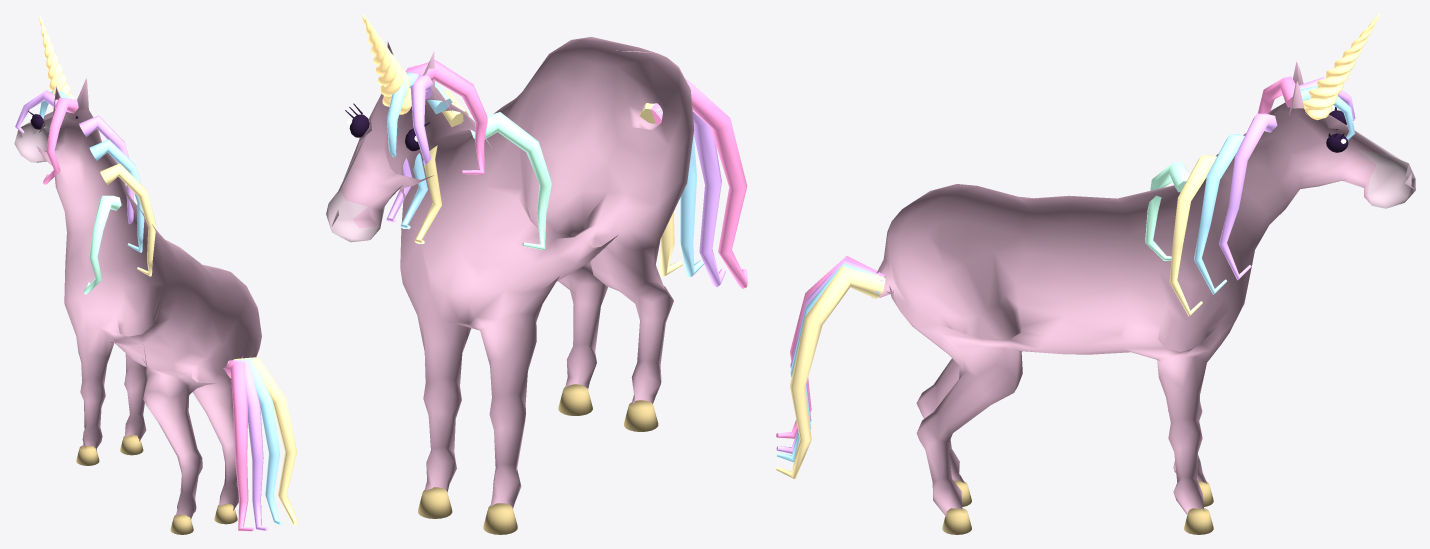
The model's file is unicorn_plush.glb.
3 views of the same model, side by side, from view 1: azimuth 30°, elevation 25°; view 2: azimuth 150°, elevation 25°; view 3: azimuth 270°, elevation 25° (orthographic). The views are drawn at different scales.
Parts seen in each view (by area): view 1: plush; view 2: plush; view 3: plush.
Boxes of the visible parts, <box> form: plush: <box>14,14,297,534</box>; plush: <box>326,14,747,534</box>; plush: <box>776,14,1415,534</box>.
Bounding box in the file's own units: 0.237 × 0.8703 × 1.01.
